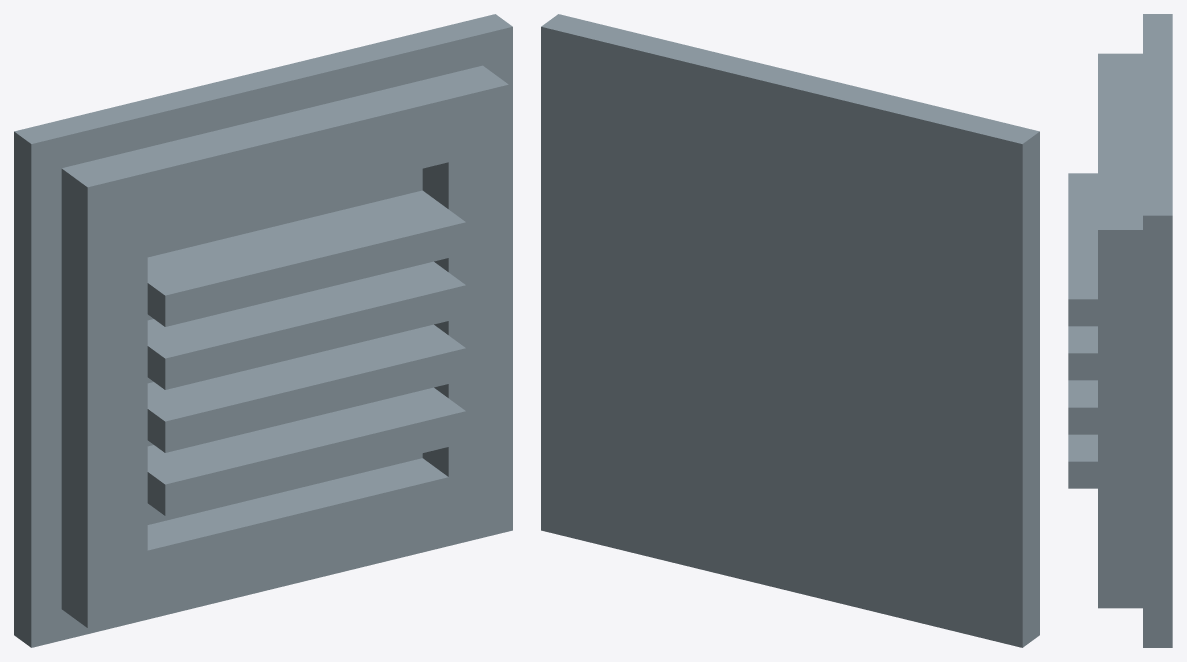
File: vent-panel.glb
3 renders of one model, left to right at view 1: azimuth 30°, elevation 25°; view 2: azimuth 150°, elevation 25°; view 3: azimuth 270°, elevation 25°, orthographic. The views are drawn at different scales.
Visible parts, largest first — view 1: vent-panel; view 2: vent-panel; view 3: vent-panel.
Boxes of the visible parts, x1,y1,x2,y2 form: vent-panel: [14, 14, 512, 647]; vent-panel: [541, 14, 1039, 647]; vent-panel: [1068, 14, 1172, 647].
Bounding box in the file's own units: 2 × 2 × 0.4375.
